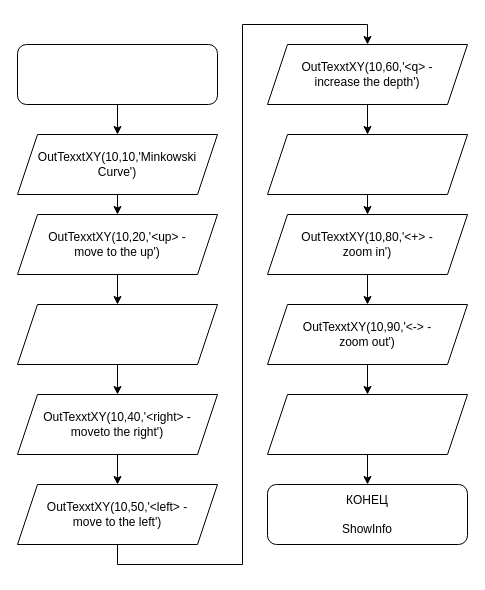
This 485x590 diagram has some shape labels left out. The shapes that lost their labels are listed below. From the top down, each one's centre as x and y in pixels, then its label:
At (117,74): "ShowInfo НАЧАЛО".
At (367,164): "OutTexxtXY(10,70,'<a> - reduce the depth')".
At (117,334): "OutTexxtXY(10,30,'<down> - move to the down')".
At (367,424): "OutTexxtXY(10,100,'<Esc> - Exit')".
